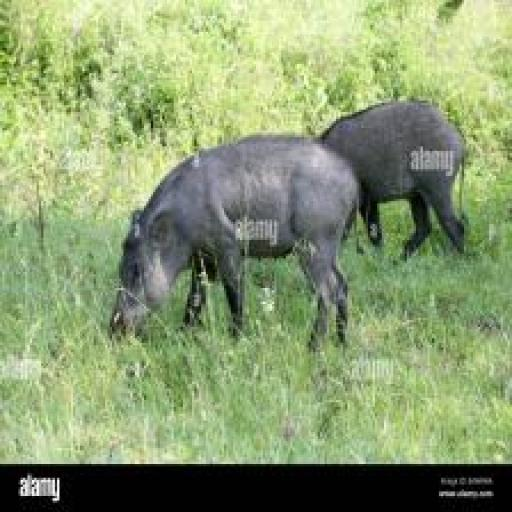Pig: (108, 135, 364, 354), (315, 98, 472, 260)
